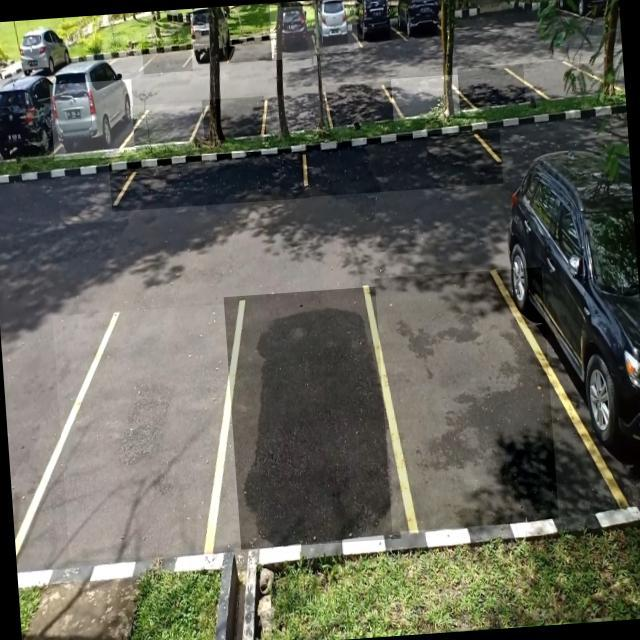empty: (374, 266, 558, 532), (52, 304, 241, 562), (224, 286, 400, 549), (300, 129, 502, 197), (108, 148, 310, 212), (132, 101, 207, 148), (325, 80, 394, 127), (390, 74, 460, 120), (263, 91, 332, 136), (457, 63, 525, 108), (201, 96, 266, 140), (141, 38, 192, 74), (226, 27, 276, 63)
occupied: (49, 78, 136, 160), (268, 5, 316, 60), (311, 1, 358, 54)
